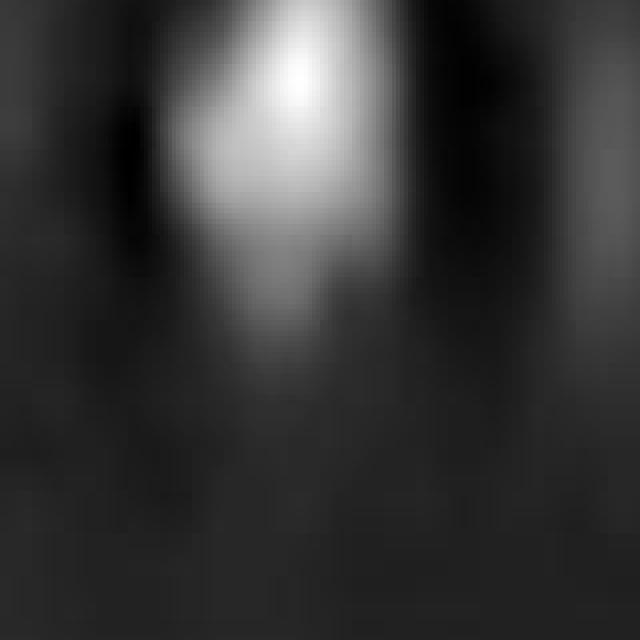person: (177, 1, 405, 406), (545, 1, 640, 492)
